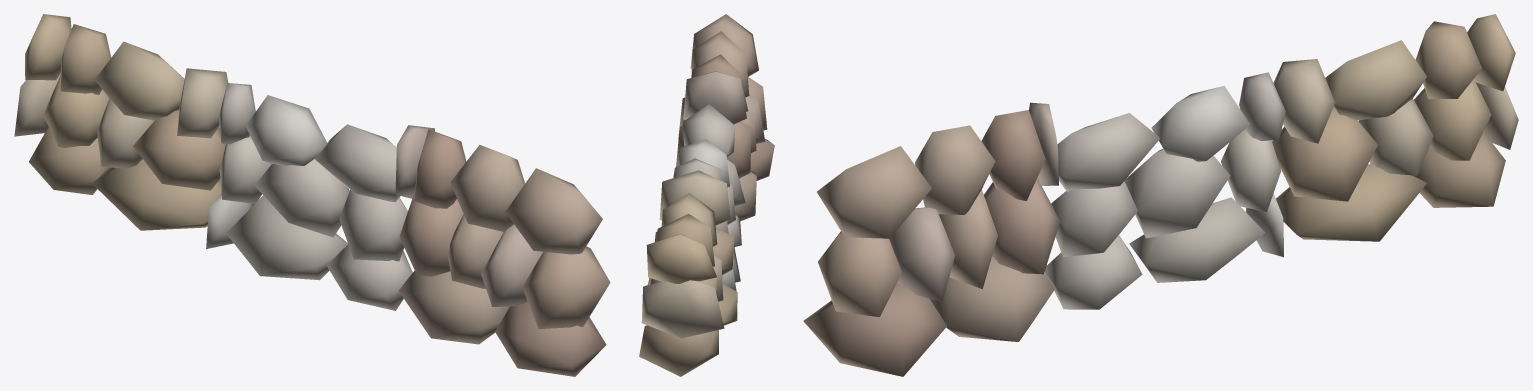
The model's file is farm_2_14_near.glb.
3 renders of one model, left to right at view 1: azimuth 30°, elevation 25°; view 2: azimuth 150°, elevation 25°; view 3: azimuth 270°, elevation 25°, orthographic. The views are drawn at different scales.
Parts seen in each view (by area): view 1: geometry_0; view 2: geometry_0; view 3: geometry_0.
Boxes of the visible parts, <box> form: geometry_0: <box>14,14,610,376</box>; geometry_0: <box>639,14,774,376</box>; geometry_0: <box>803,14,1518,376</box>.
Size of the model in its own units: 2.52 by 1.55 by 4.49.
